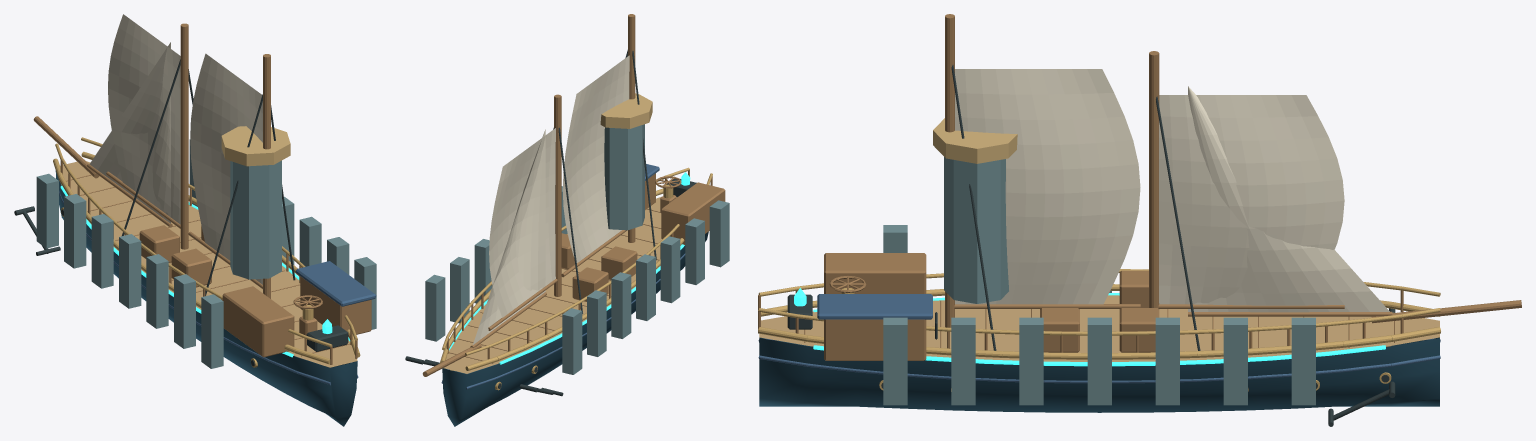
Rendered from premium_royal_schooner.glb.
The picture shows the model from 3 angles, left to right: view 1: azimuth 30°, elevation 25°; view 2: azimuth 150°, elevation 25°; view 3: azimuth 270°, elevation 25°; orthographic projection. The views are drawn at different scales.
Parts seen in each view (by area): view 1: premium_royal_schooner; view 2: premium_royal_schooner; view 3: premium_royal_schooner.
Boxes of the visible parts, x1,y1,x2,y2 form: premium_royal_schooner: (14, 14, 376, 426); premium_royal_schooner: (405, 14, 729, 426); premium_royal_schooner: (758, 14, 1521, 426).
Size of the model in its own units: 4.18 by 7.6 by 13.47.
